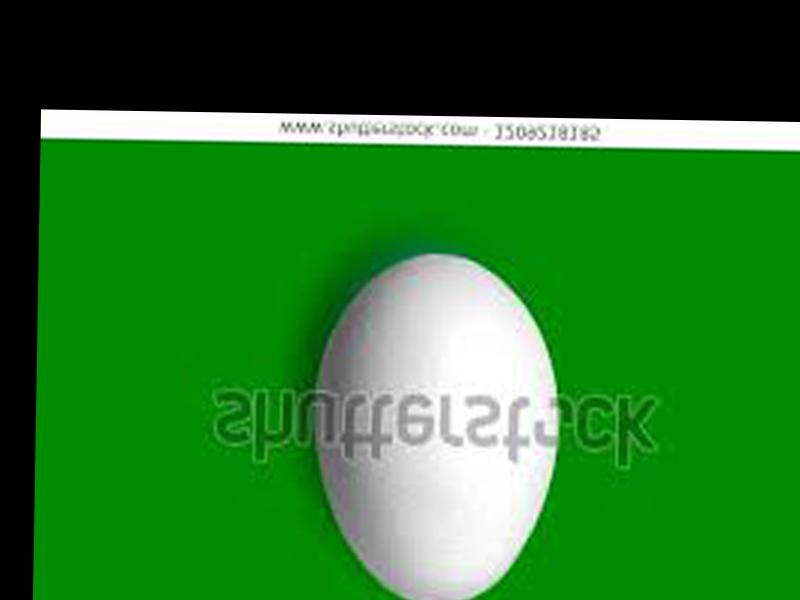Eggs: (309, 254, 559, 600)
